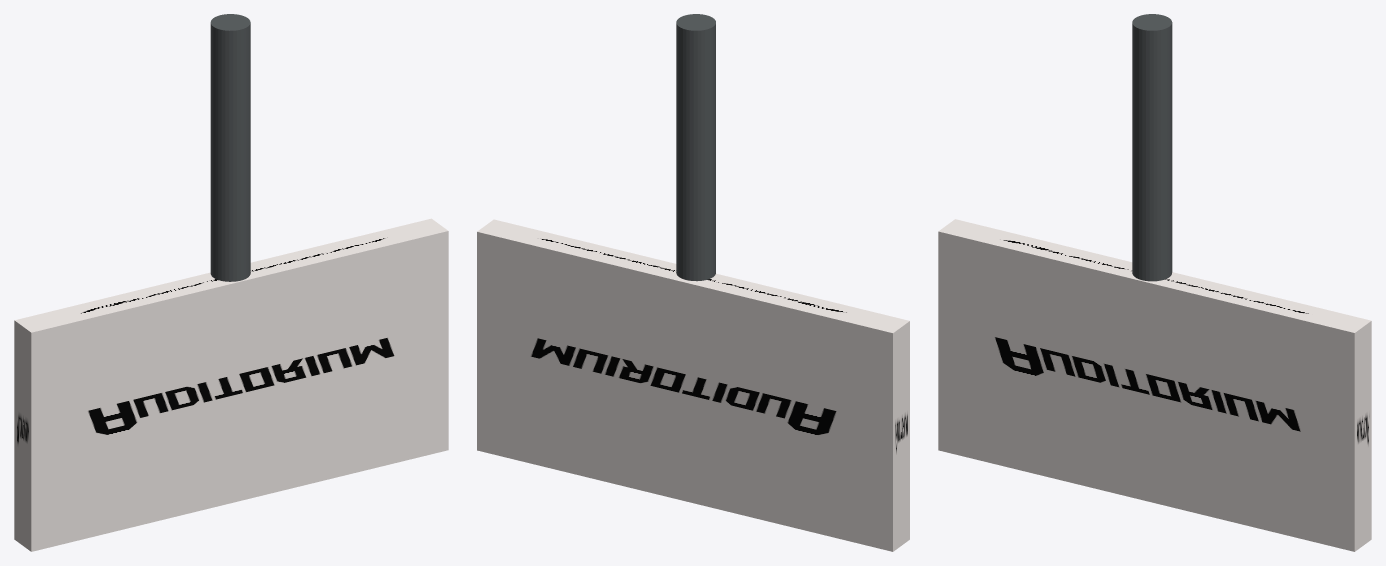
File: auditoriumsign.glb
The picture shows the model from 3 angles, left to right: view 1: azimuth 30°, elevation 25°; view 2: azimuth 150°, elevation 25°; view 3: azimuth 330°, elevation 25°; orthographic projection.
Parts seen in each view (by area): view 1: Cube, Cylinder; view 2: Cube, Cylinder; view 3: Cube, Cylinder.
Boxes of the visible parts, <box> form: Cube: <box>14,218,448,551</box>; Cylinder: <box>210,14,250,281</box>; Cube: <box>477,219,909,551</box>; Cylinder: <box>676,14,715,281</box>; Cube: <box>938,219,1371,551</box>; Cylinder: <box>1132,14,1172,281</box>.
Size of the model in its own units: 3.98 by 4.32 by 0.3302.
2 materials, 2 textured.
